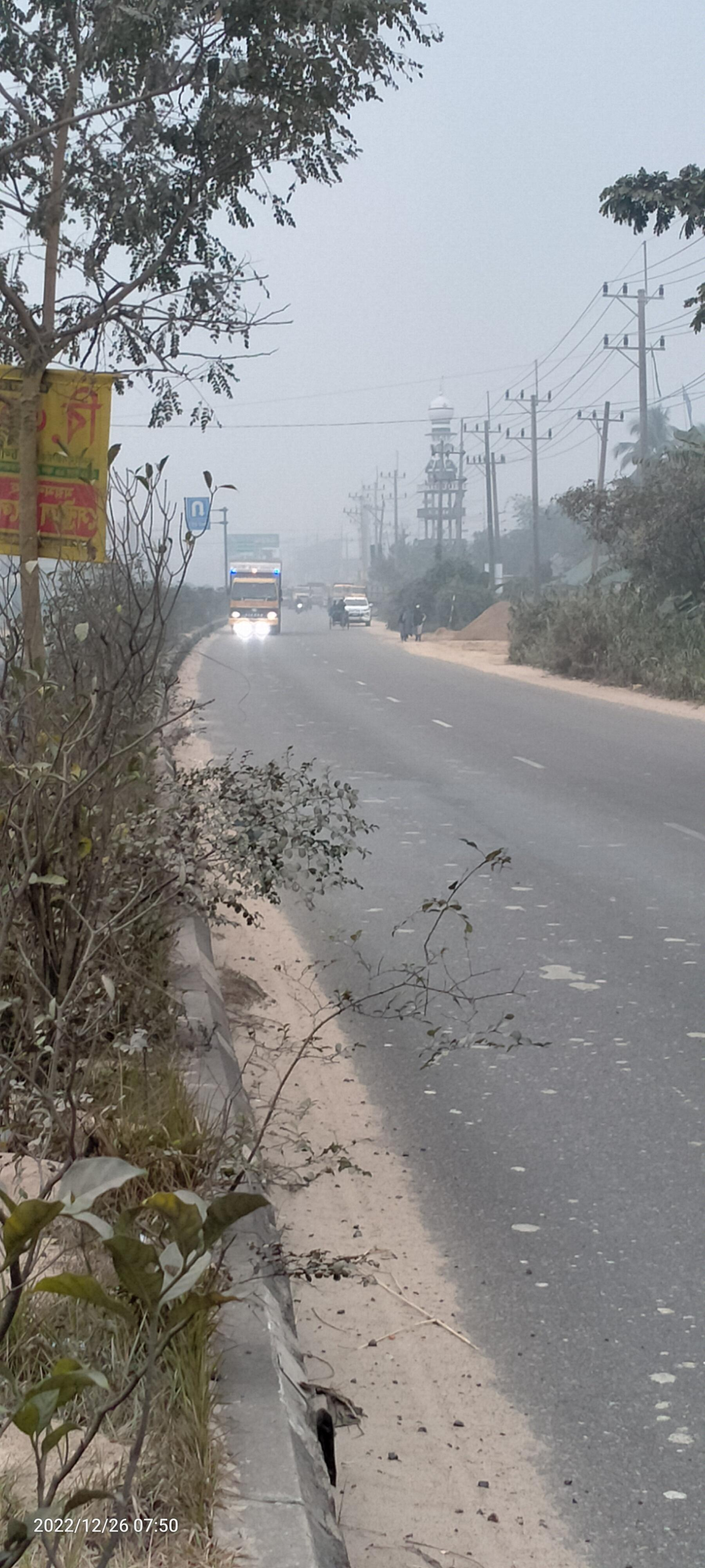Car: (339, 587, 376, 631)
Truck: (221, 552, 294, 650)
